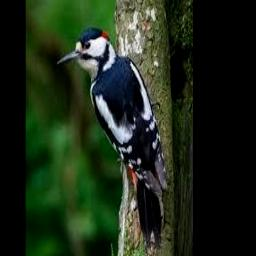Woodpecker: (57, 27, 168, 248)
